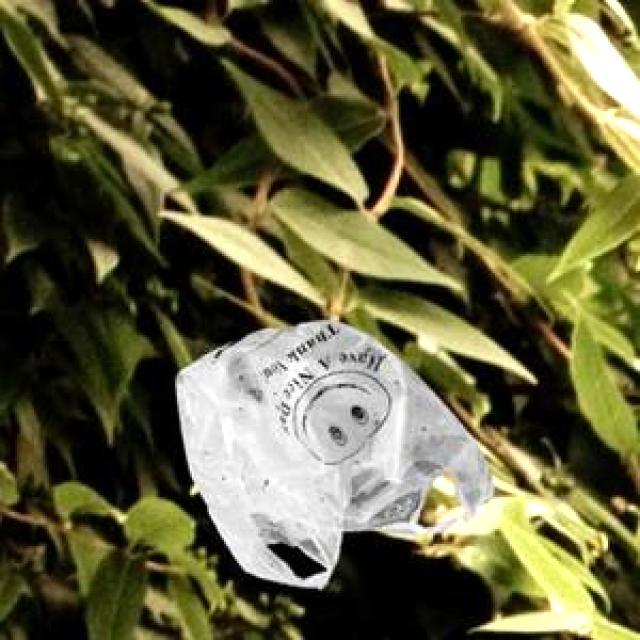Plastic_Bag: (173, 316, 490, 586)
